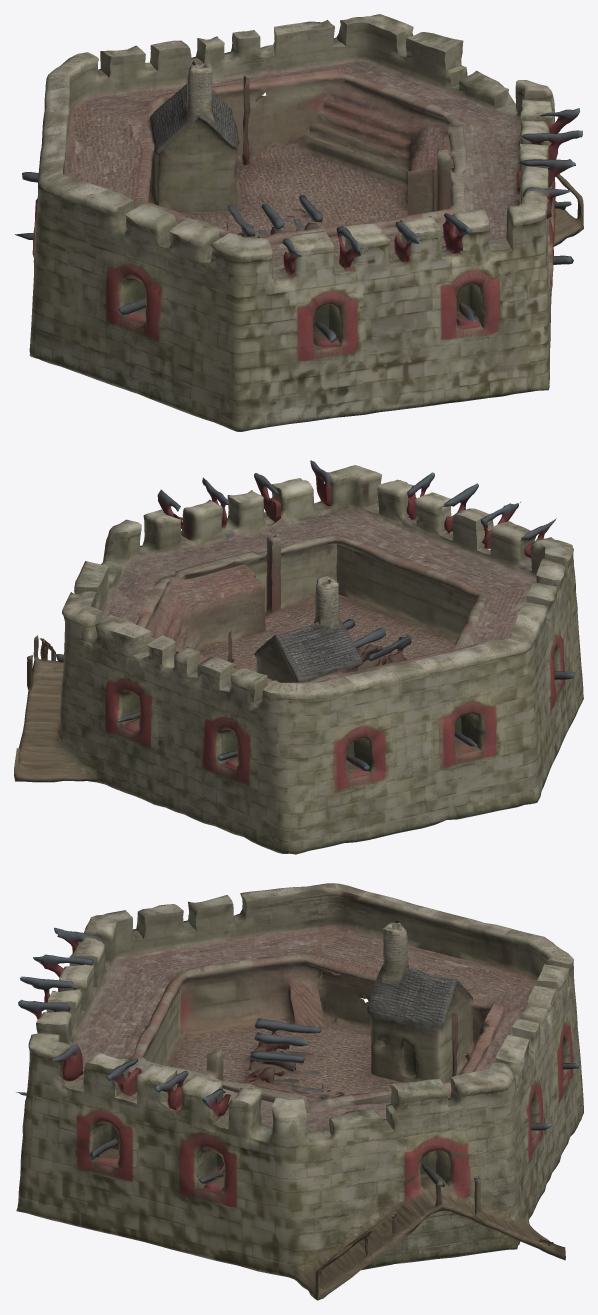
The model's file is fort_001.glb.
The picture shows the model from 3 angles, top to bottom: view 1: azimuth 30°, elevation 25°; view 2: azimuth 150°, elevation 25°; view 3: azimuth 270°, elevation 25°; orthographic projection. The views are drawn at different scales.
Parts seen in each view (by area): view 1: tripo_node_355bdcd3; view 2: tripo_node_355bdcd3; view 3: tripo_node_355bdcd3.
Boxes of the visible parts, left/top/right/bottom form: tripo_node_355bdcd3: left=15, top=14, right=583, bottom=431; tripo_node_355bdcd3: left=14, top=460, right=583, bottom=854; tripo_node_355bdcd3: left=16, top=883, right=583, bottom=1300.
Size of the model in its own units: 99.79 by 39.15 by 93.08.
1 material, 1 textured.
